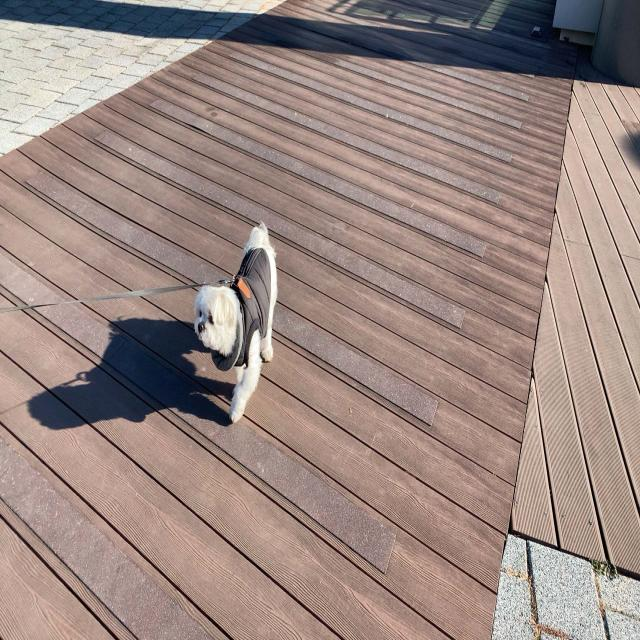Dog: (194, 222, 278, 424)
